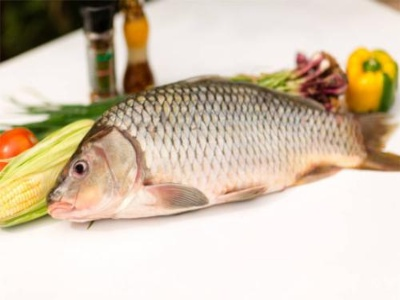rohu: (52, 83, 400, 231)
